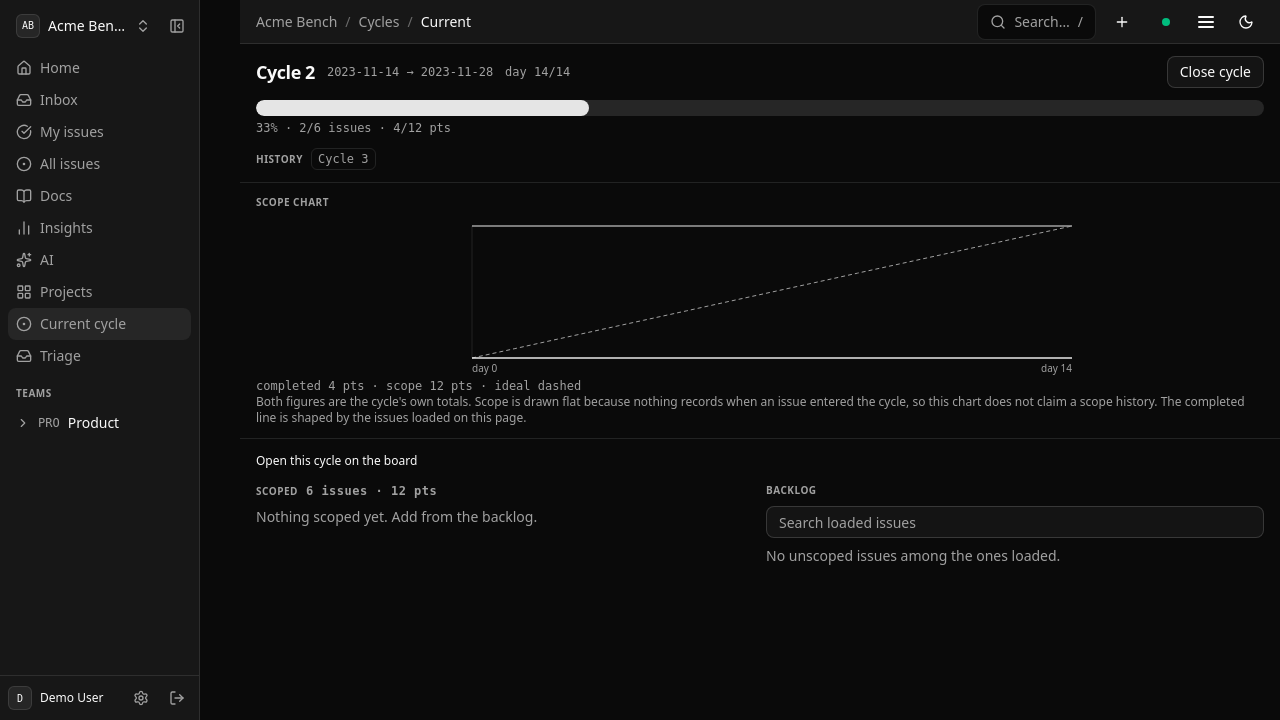
Test: close cycle › names the destination cycle from the loaded list
Click the link "Current cycle": (100, 324) [8, 308, 191, 340]
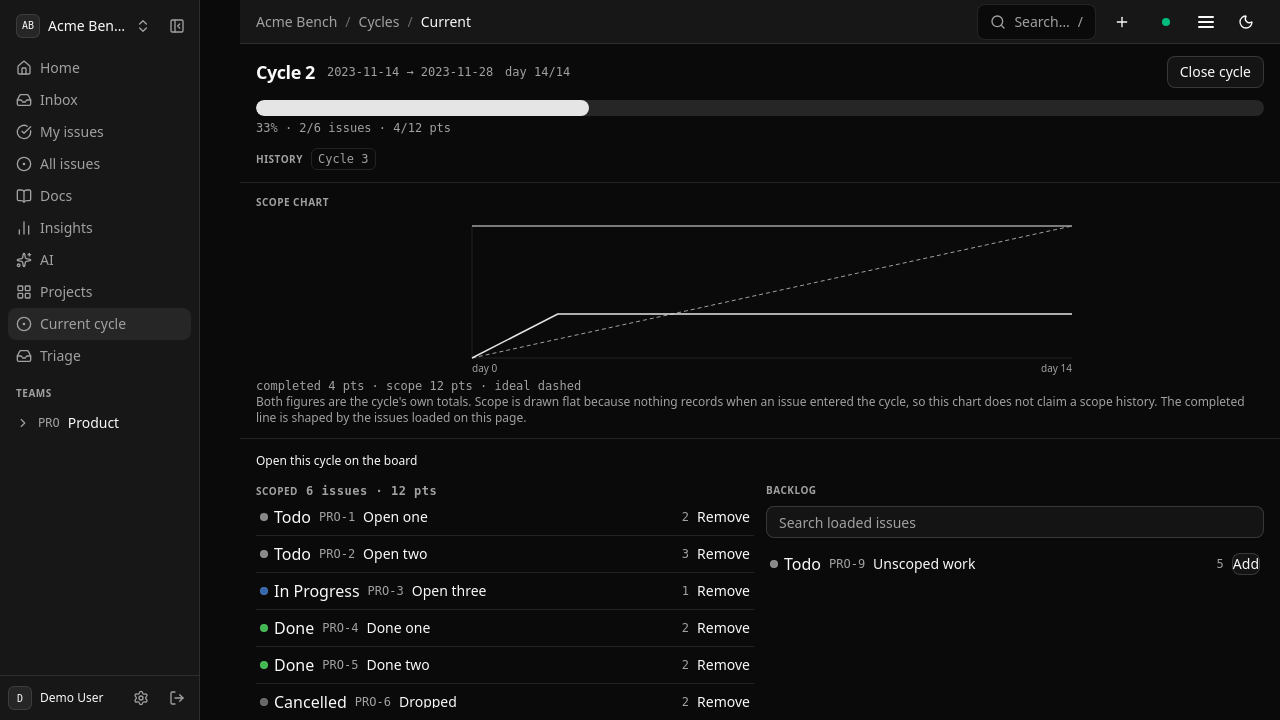
Click the button "Close cycle": (1215, 72) [1167, 56, 1264, 88]
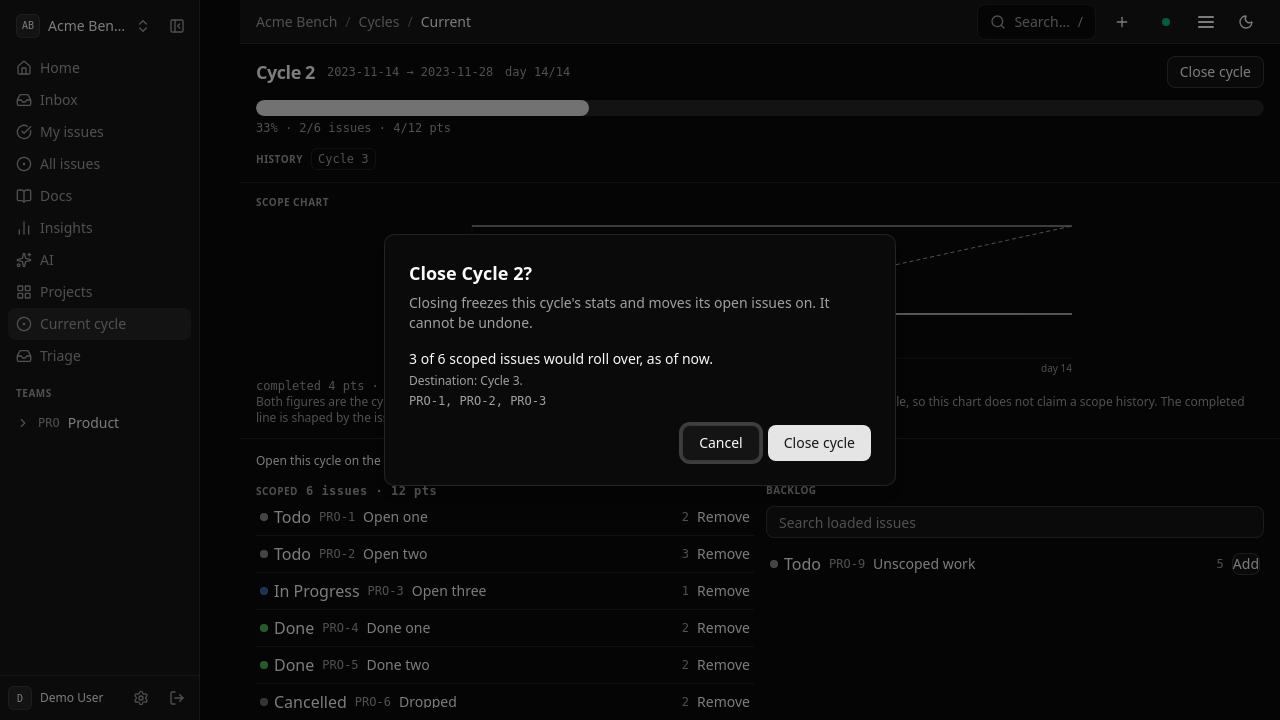
Expected: the text "3 of 6 scoped issues would roll over, as of now." is shown, [409, 349, 713, 368]
Expected: the text with test id "cy-rollover-target" reads "Destination: Cycle 3.", [409, 372, 523, 389]
Click the button "Cancel": (721, 443) [682, 425, 760, 461]
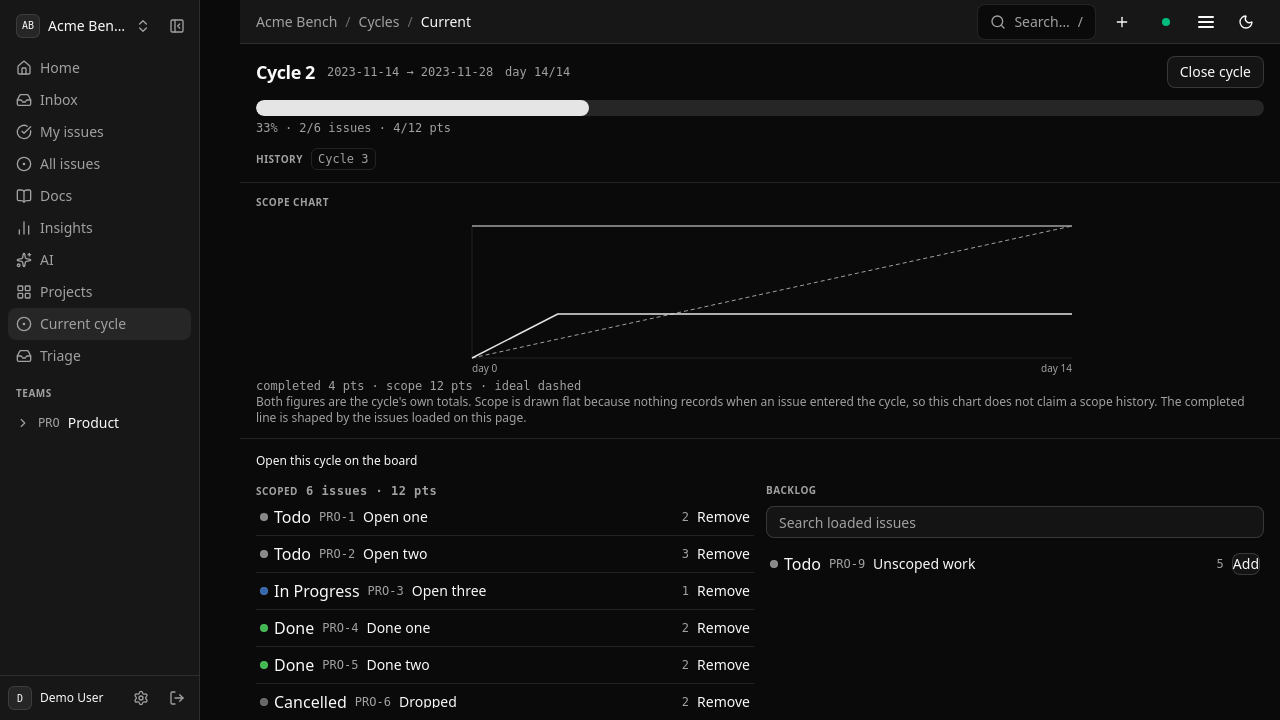
Expected: the text with test id "cy-rollover-preview" is gone
